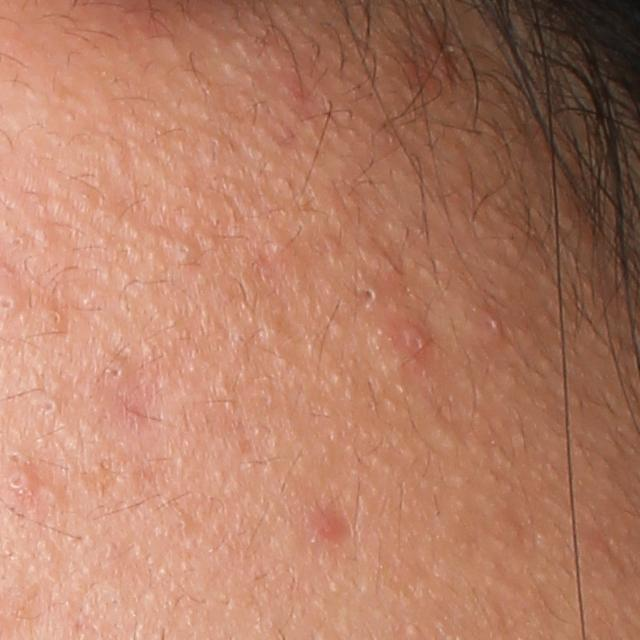comedo: (174, 238, 197, 262)
papule: (312, 512, 348, 539), (398, 322, 427, 353)
